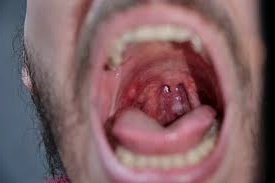Ulcer: (169, 98, 182, 116), (127, 83, 137, 99)
